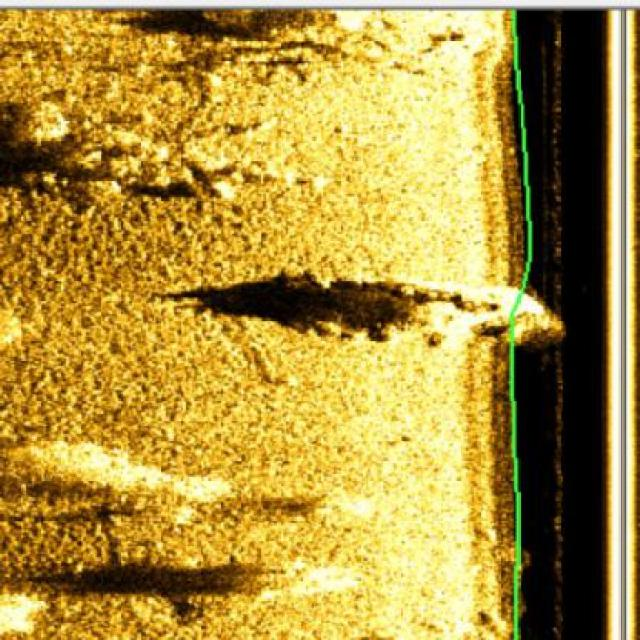bedrock group: (0, 0, 506, 638)
